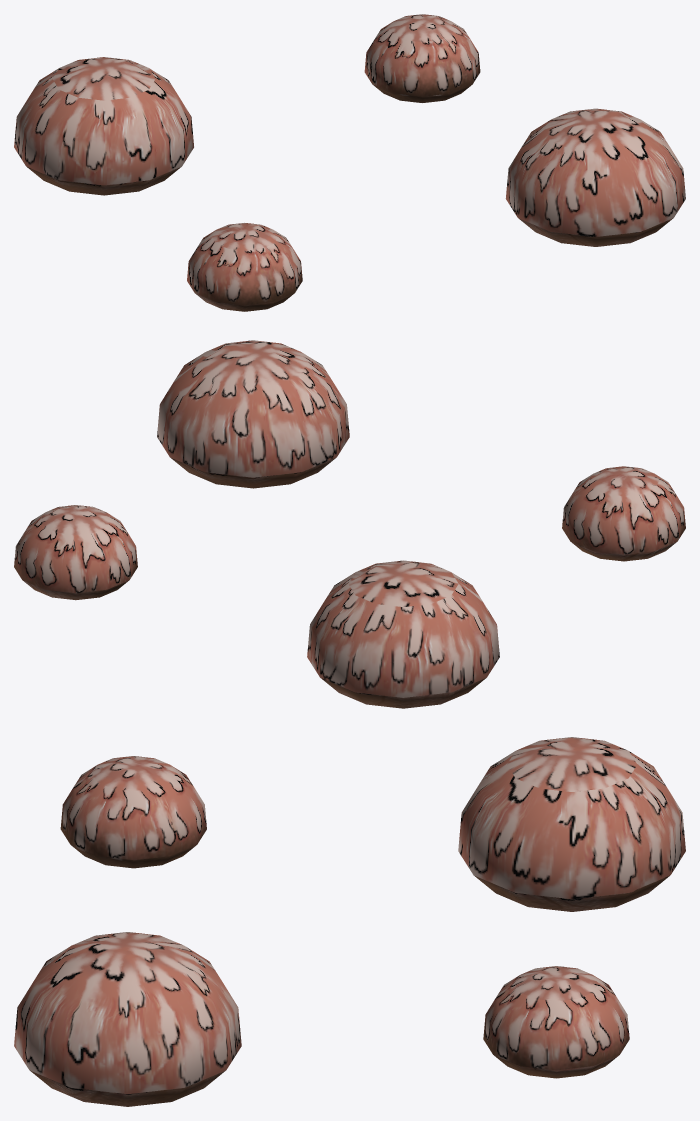
Rendered from SM_Mushroom_Growing1.fbx.
The picture shows the model from 3 angles, top to bottom: view 1: azimuth 30°, elevation 25°; view 2: azimuth 150°, elevation 25°; view 3: azimuth 270°, elevation 25°; orthographic projection. The views are drawn at different scales.
Visible parts, largest first — view 1: SM_Mushroom_Growing1; view 2: SM_Mushroom_Growing1; view 3: SM_Mushroom_Growing1.
Part boxes in pixels (bbox=[...]): SM_Mushroom_Growing1: bbox=[14, 14, 685, 311]; SM_Mushroom_Growing1: bbox=[14, 340, 685, 708]; SM_Mushroom_Growing1: bbox=[14, 737, 685, 1106].
Bounding box in the file's own units: 37.12 × 7.97 × 35.84.
